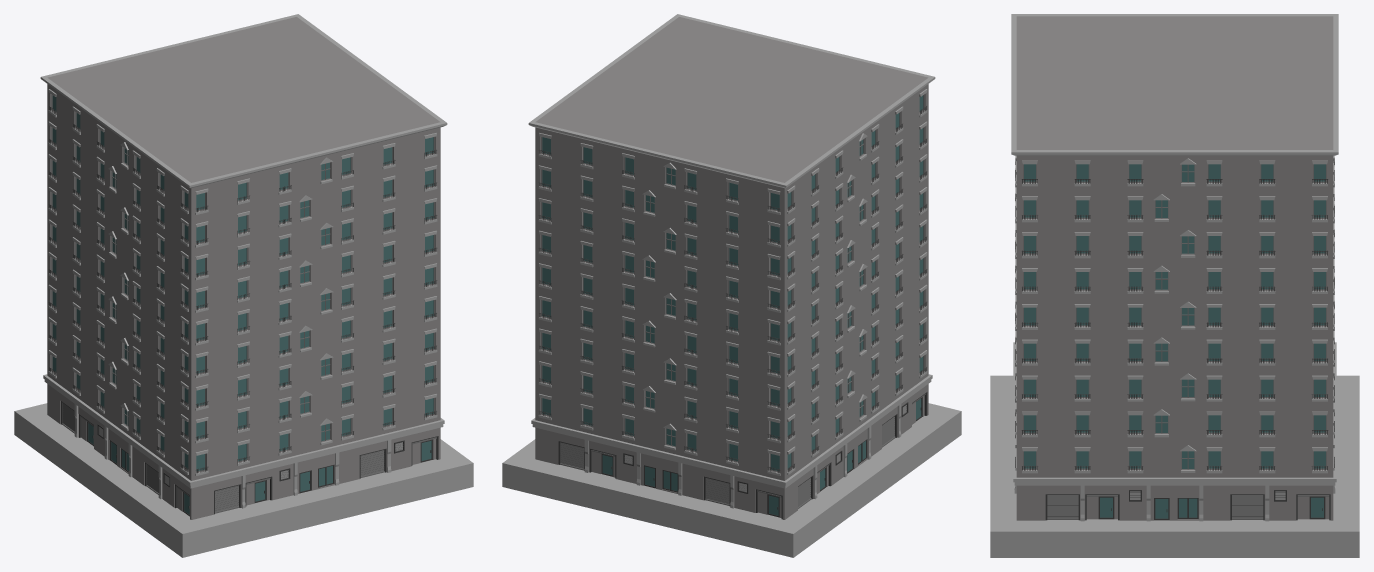
Rendered from SM_building_001.fbx.
3 renders of one model, left to right at view 1: azimuth 30°, elevation 25°; view 2: azimuth 150°, elevation 25°; view 3: azimuth 270°, elevation 25°, orthographic. The views are drawn at different scales.
Parts seen in each view (by area): view 1: Facade_1, Facade_2, Roof, Foundation, Facade_3, Facade_4; view 2: Facade_3, Facade_2, Roof, Foundation, Facade_1, Facade_4; view 3: Facade_4, Roof, Foundation, Facade_3, Facade_1, Facade_2.
Part boxes in pixels (x1,y1,x2,y2): Facade_1: (187, 122, 442, 519); Facade_2: (40, 76, 191, 519); Roof: (47, 17, 440, 182); Foundation: (14, 403, 473, 557); Facade_3: (45, 14, 300, 375); Facade_4: (297, 16, 447, 427); Facade_3: (528, 121, 784, 519); Facade_2: (782, 77, 932, 519); Roof: (535, 17, 928, 182); Foundation: (502, 403, 961, 557); Facade_1: (679, 15, 935, 381); Facade_4: (531, 14, 680, 419); Facade_4: (1011, 150, 1333, 521); Roof: (1016, 16, 1333, 149); Foundation: (990, 375, 1359, 557); Facade_3: (1333, 16, 1338, 493); Facade_1: (1011, 14, 1016, 493); Facade_2: (1016, 14, 1338, 343).
Size of the model in its own units: 1400 by 1660 by 1400.
